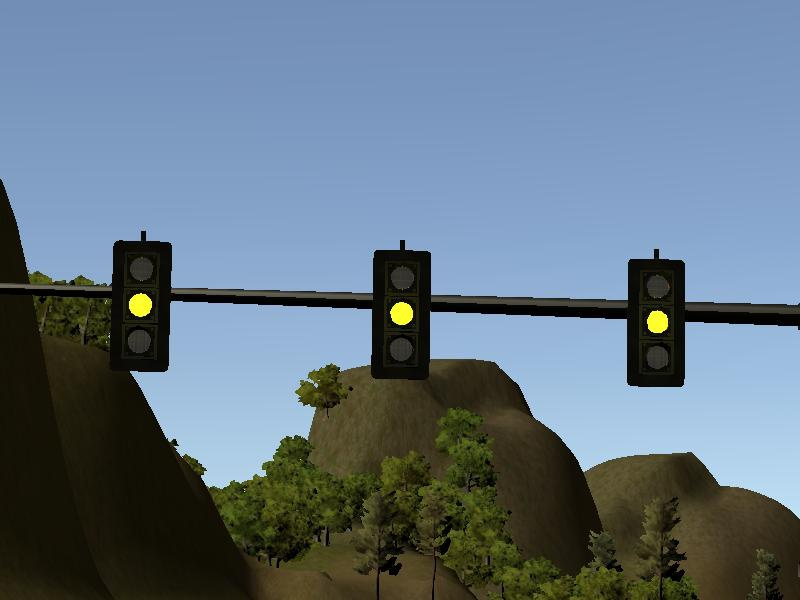Yellow: (628, 259, 685, 389), (373, 250, 429, 379), (114, 240, 168, 373)
